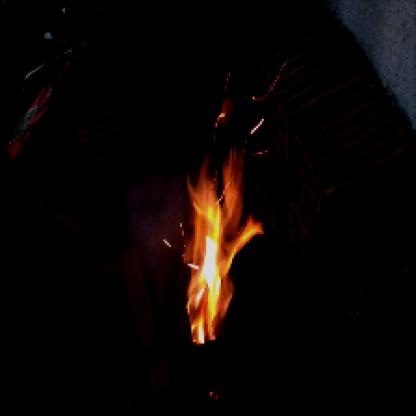Fire: (176, 70, 275, 353)
